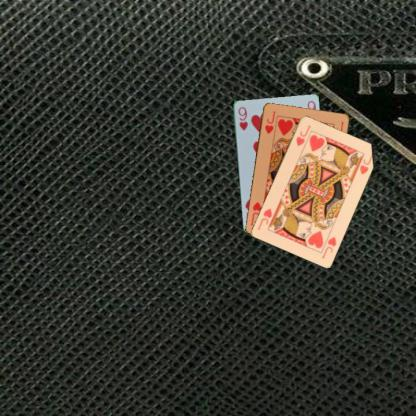9h: (235, 104, 249, 132)
Jh: (318, 230, 337, 260), (294, 122, 312, 147), (262, 108, 277, 134)
